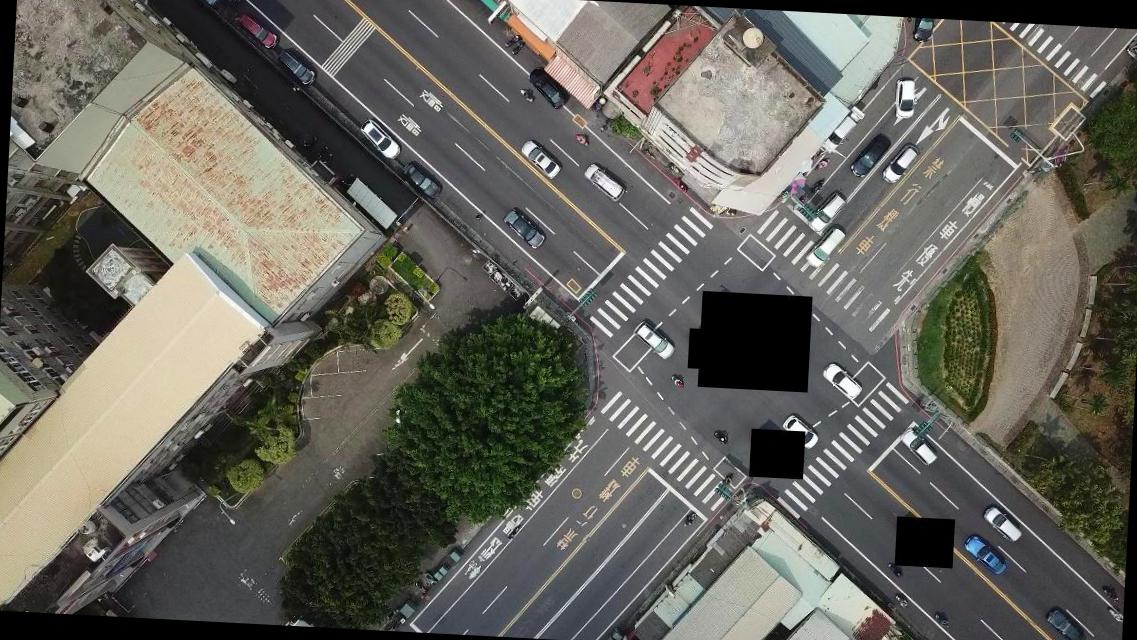vehicle: (524, 64, 572, 110), (849, 130, 891, 180), (803, 190, 847, 236), (518, 140, 566, 182), (397, 160, 444, 202), (358, 118, 403, 161), (502, 208, 548, 250), (580, 162, 628, 202), (803, 226, 846, 270), (962, 534, 1008, 575), (630, 320, 676, 360), (819, 362, 865, 401), (882, 142, 920, 186), (1041, 605, 1089, 639), (239, 10, 279, 50), (980, 504, 1022, 542), (899, 426, 938, 466), (278, 48, 318, 86), (780, 413, 818, 450), (892, 77, 916, 121)
